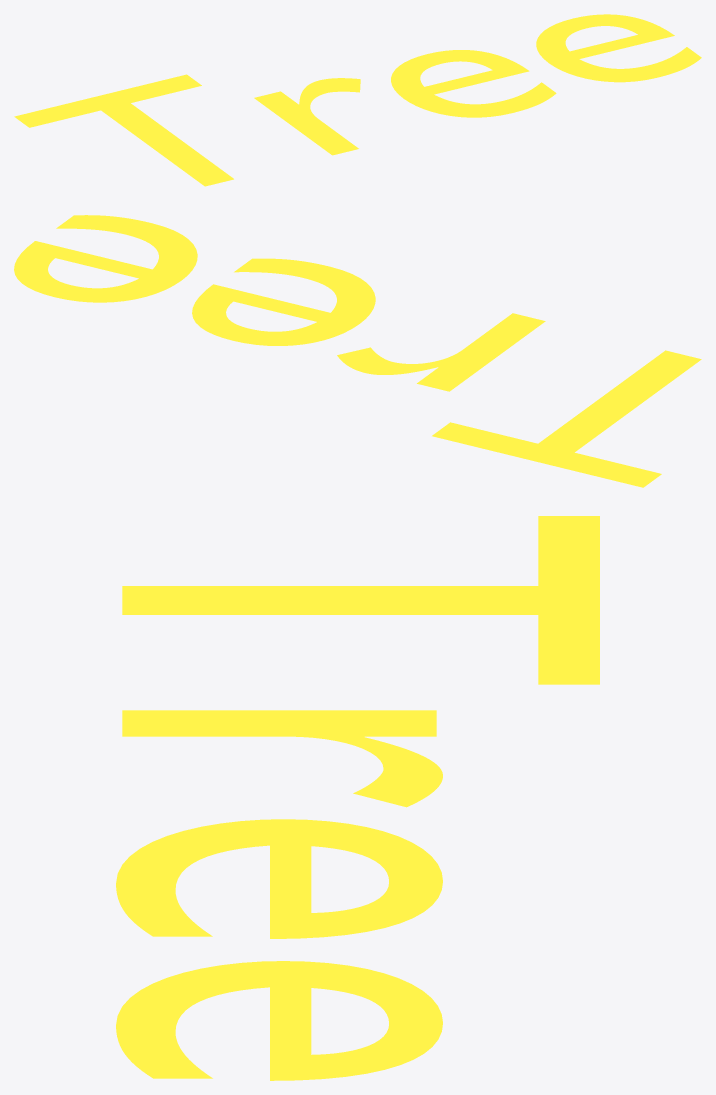
Rendered from tree_reticle.gltf.
3 renders of one model, top to bottom at view 1: azimuth 30°, elevation 25°; view 2: azimuth 150°, elevation 25°; view 3: azimuth 270°, elevation 25°, orthographic. The views are drawn at different scales.
Visible parts, largest first — view 1: Text; view 2: Text; view 3: Text.
Boxes of the visible parts, left/top/right/bottom form: Text: left=14, top=14, right=701, bottom=186; Text: left=14, top=215, right=701, bottom=487; Text: left=116, top=516, right=599, bottom=1080.
Bounding box in the file's own units: 0.7994 × 0 × 0.2895.
